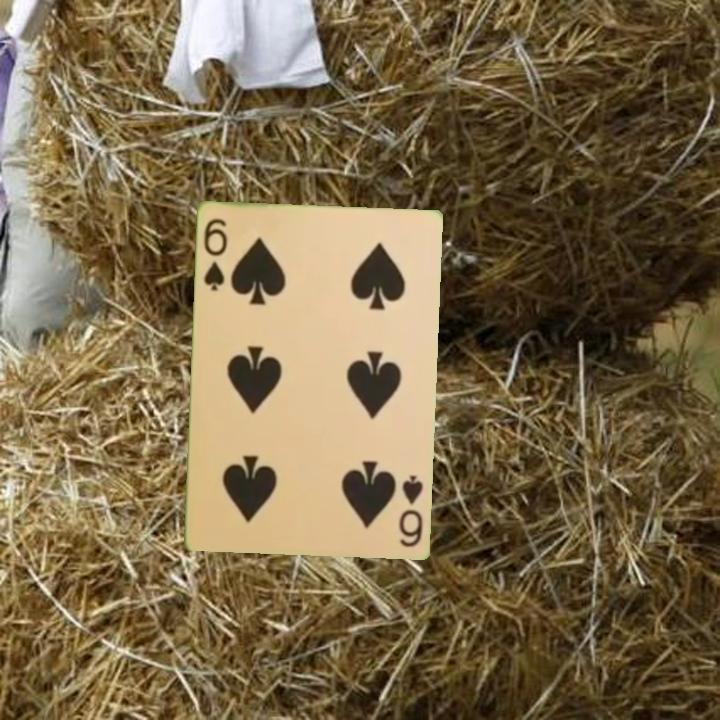6s: (199, 214, 230, 293), (394, 471, 425, 549)
